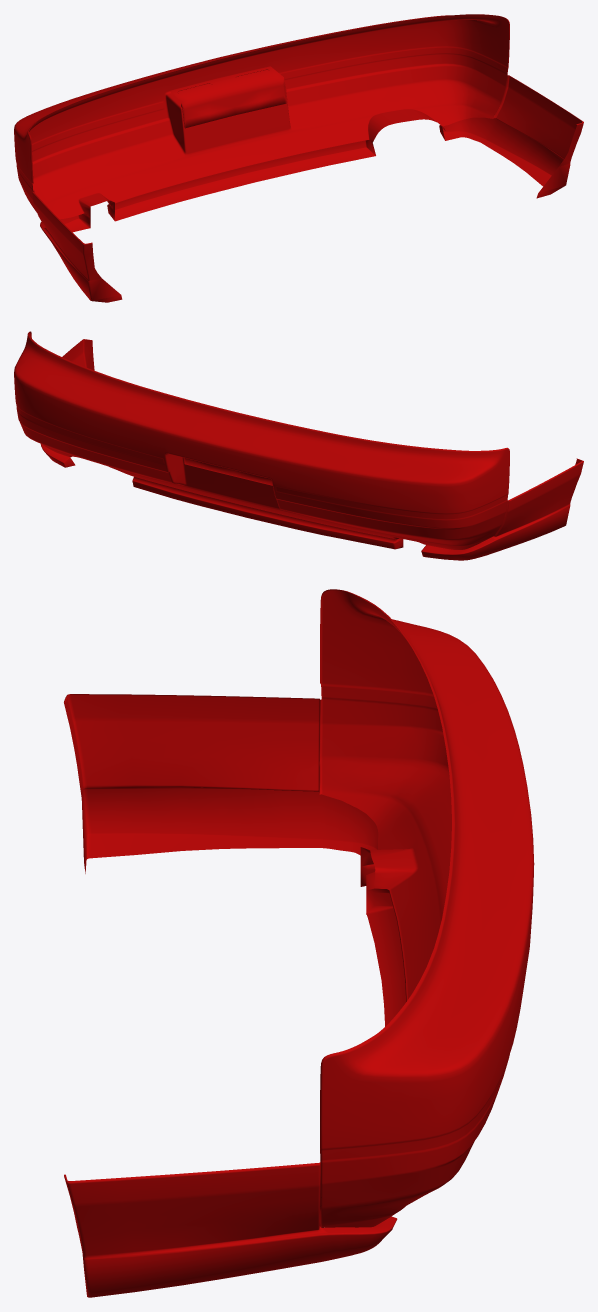
Rendered from rearbumper_oemkouki.glb.
3 renders of one model, top to bottom at view 1: azimuth 30°, elevation 25°; view 2: azimuth 150°, elevation 25°; view 3: azimuth 270°, elevation 25°, orthographic. The views are drawn at different scales.
Parts seen in each view (by area): view 1: rearbumper; view 2: rearbumper; view 3: rearbumper.
Boxes of the visible parts, bbox=[...] form: rearbumper: bbox=[14, 14, 583, 302]; rearbumper: bbox=[14, 331, 583, 560]; rearbumper: bbox=[64, 589, 534, 1297].
Size of the model in its own units: 1.69 by 0.4121 by 0.6854.
